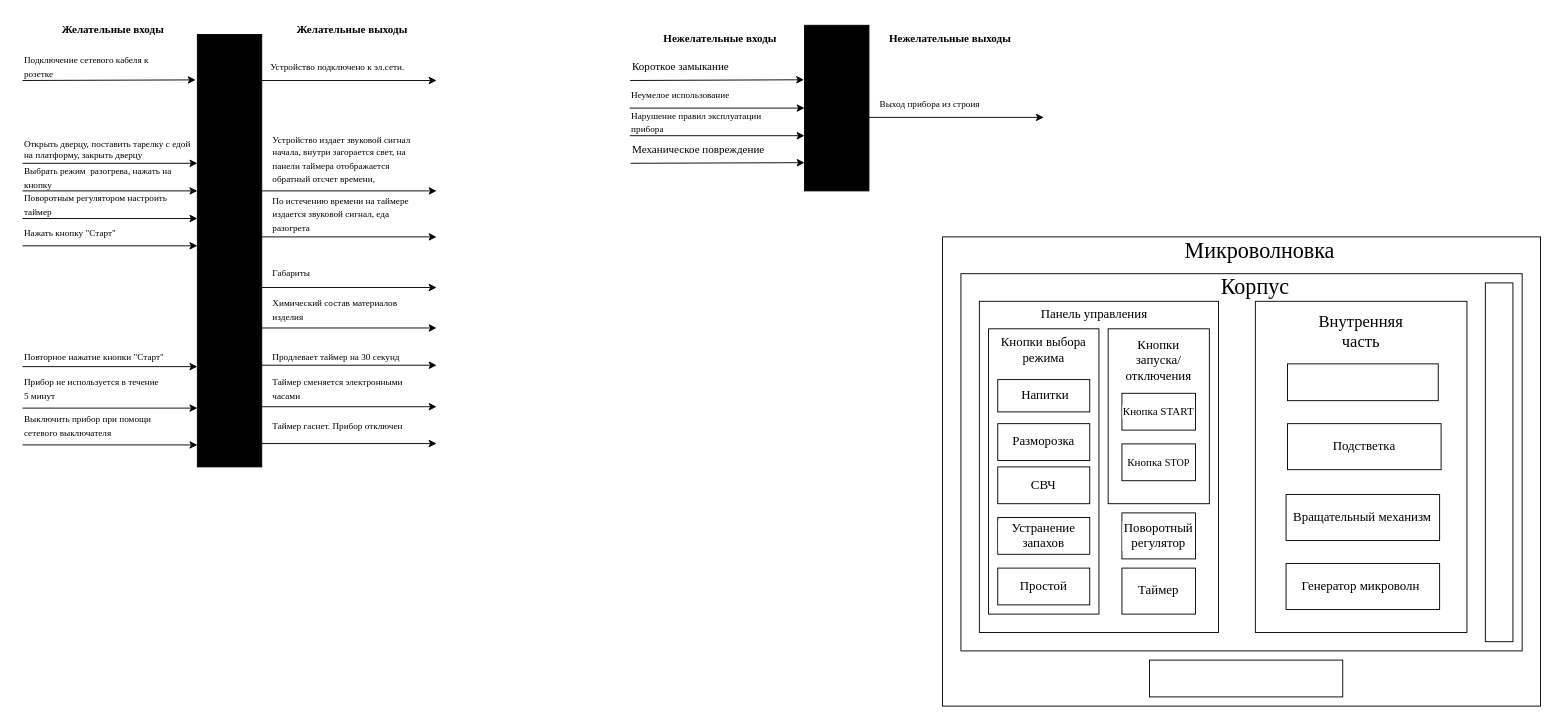
Some shapes in this 1557 by 722 pixel diagram are drawn without their labels. Here are the shapes that lost their labels. From the top down, the centre of each, then its label:
pixel 229 250: С и с т е м а м и к р о в о л н о в к а
pixel 1362 382: Тарелка
pixel 1498 462: Д в е р ц а
pixel 1246 678: Блок питания
